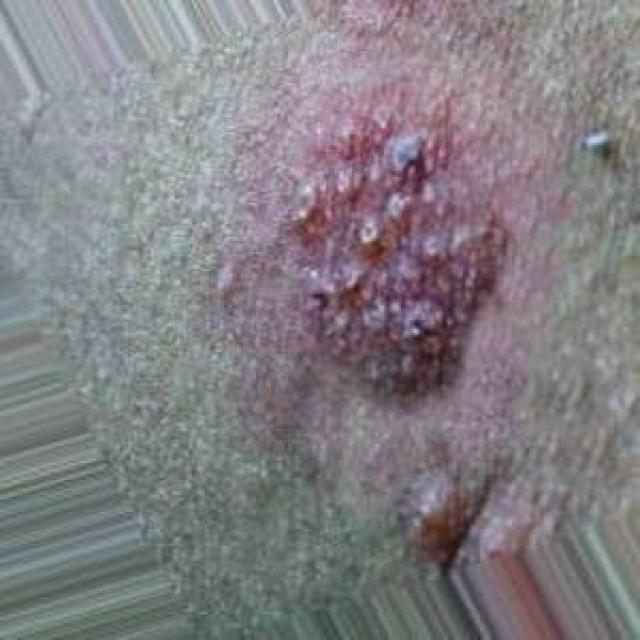Shingles: (286, 110, 506, 393)
